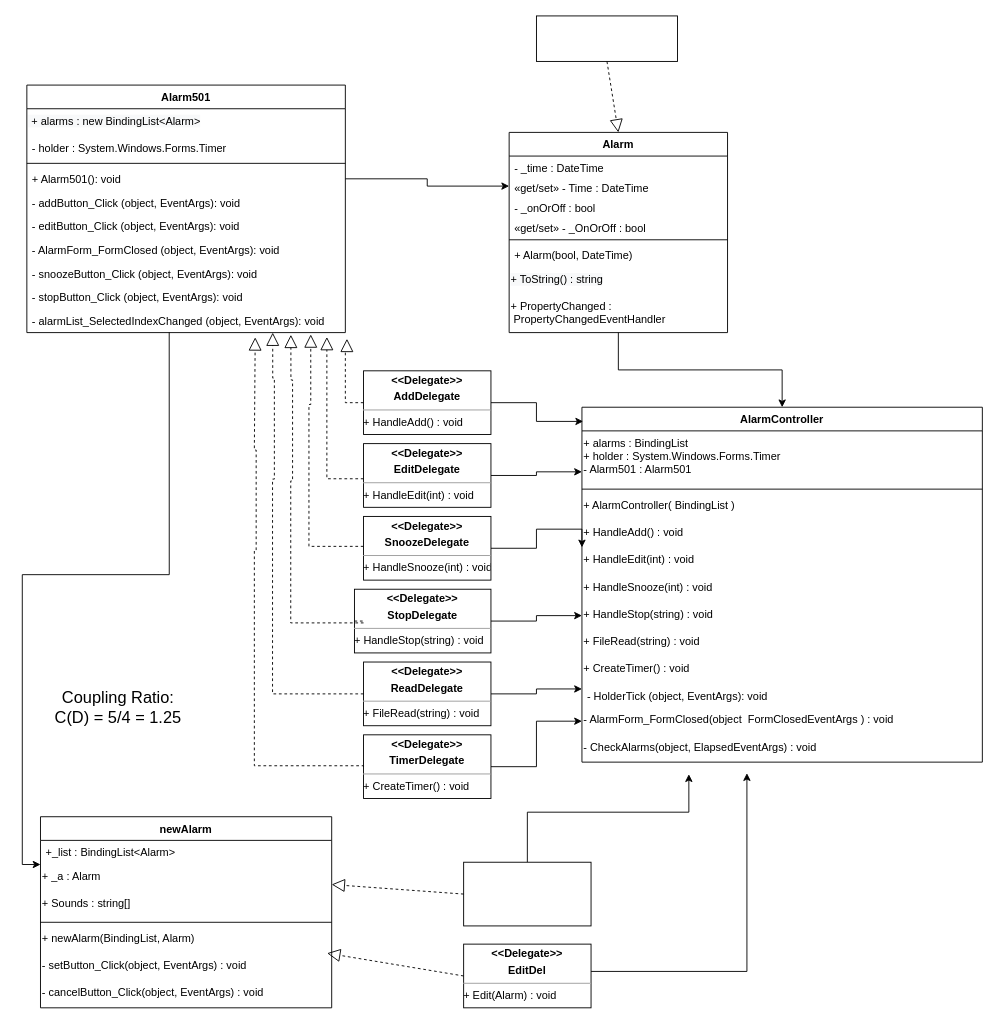
Some shapes in this 998 by 1024 pixel diagram are drawn without their labels. Here are the shapes that lost their labels. From the top down, the centre of each, then its label:
[606,38]: «interface» INotifyPropertyChanged
[527,893]: <<Delegate>> SetDel + Set() : void
